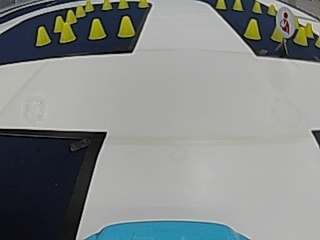cone: (88, 18, 106, 39), (118, 16, 135, 37), (244, 19, 261, 39), (60, 21, 76, 42), (35, 26, 51, 45), (294, 26, 307, 45), (101, 0, 112, 11), (267, 3, 277, 15), (252, 1, 262, 13), (75, 5, 85, 17), (84, 0, 94, 12), (215, 0, 226, 10), (117, 0, 129, 9), (137, 0, 149, 8), (233, 1, 243, 10)
patient: (278, 6, 295, 36)
